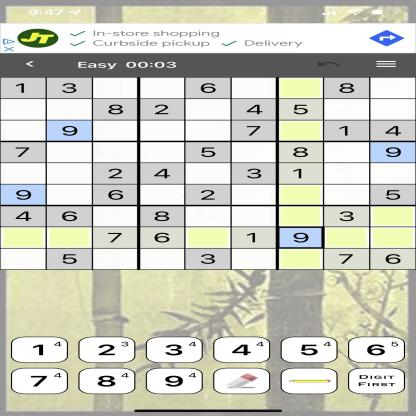sudoku: (0, 77, 416, 270)
